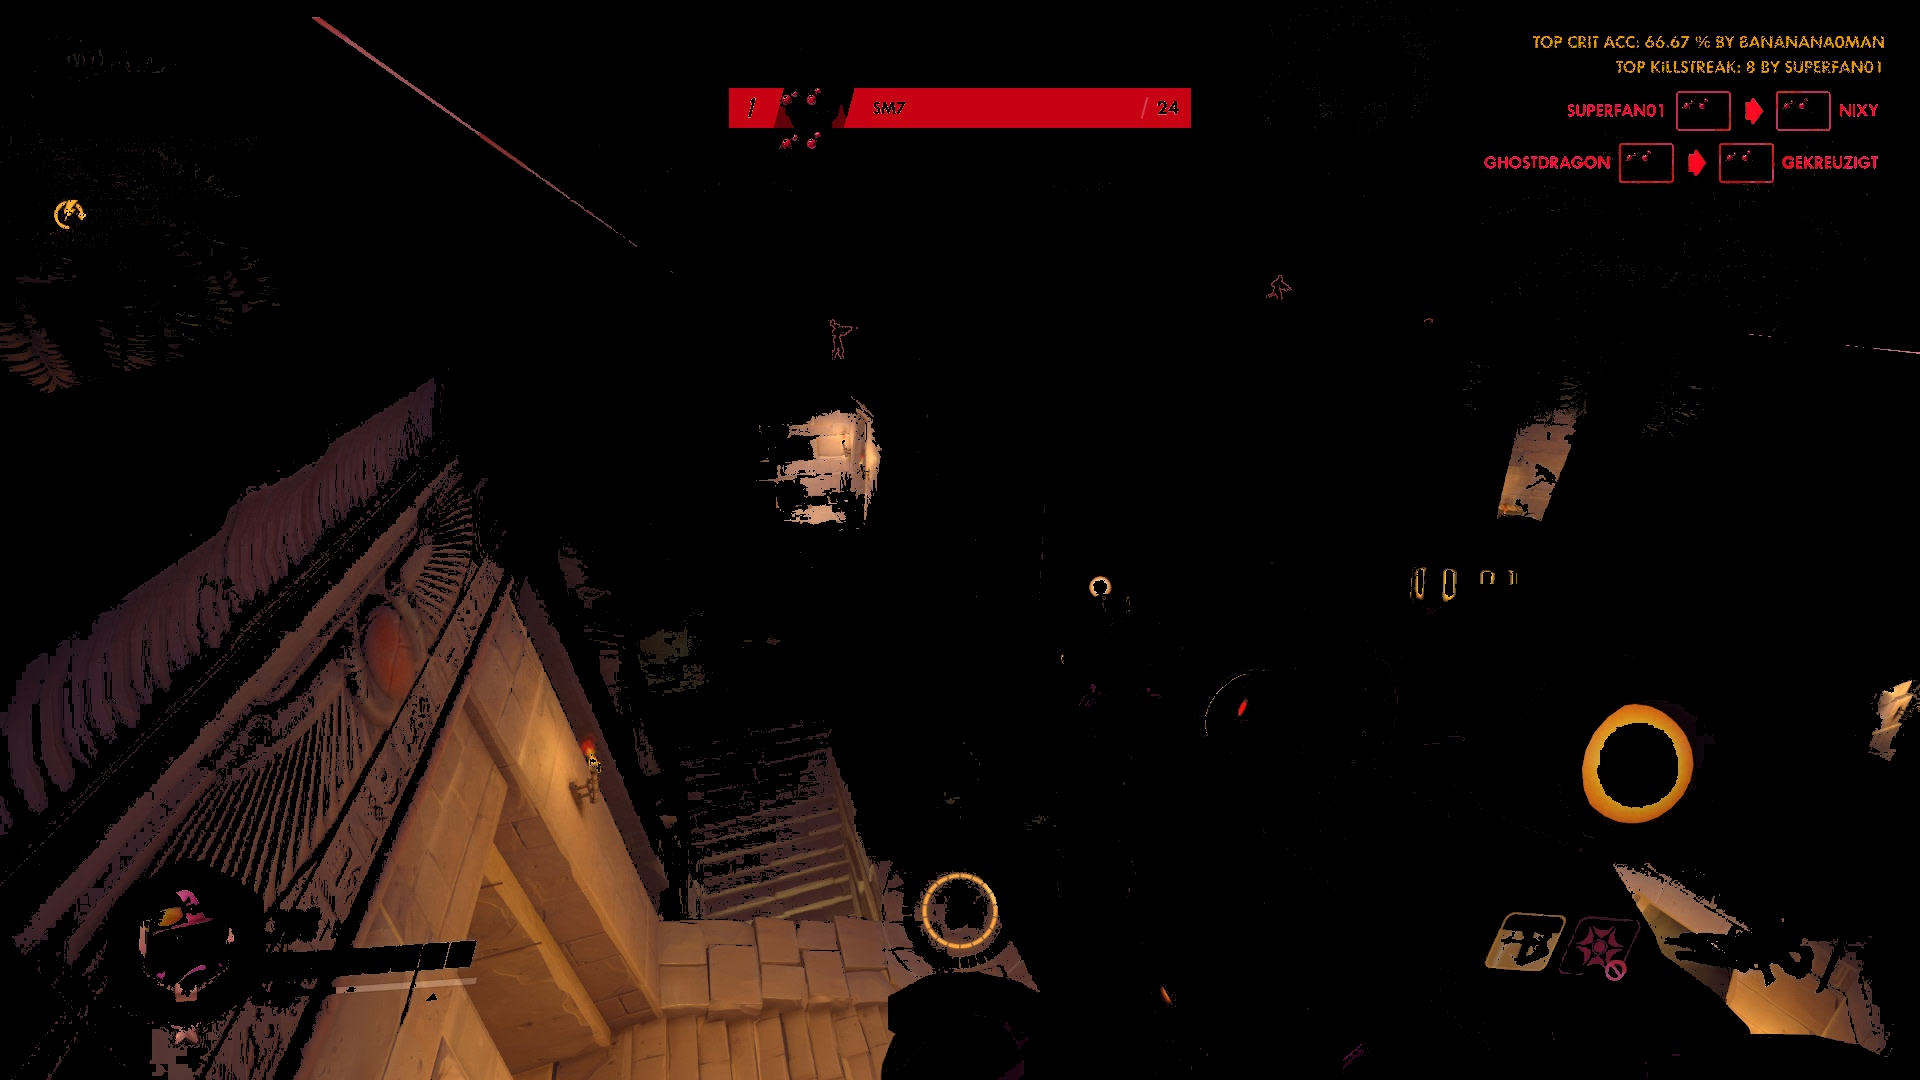widowmaker: (831, 322, 853, 364), (1270, 274, 1291, 301)
